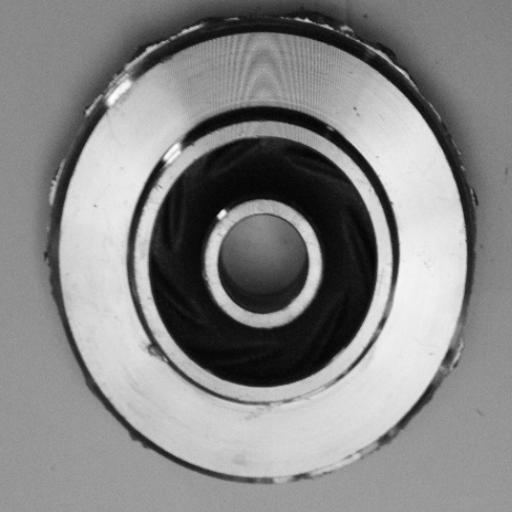casting_with_burr: (39, 6, 482, 486)
crack: (138, 329, 178, 378)
scratch: (245, 374, 340, 423), (153, 125, 193, 183)
